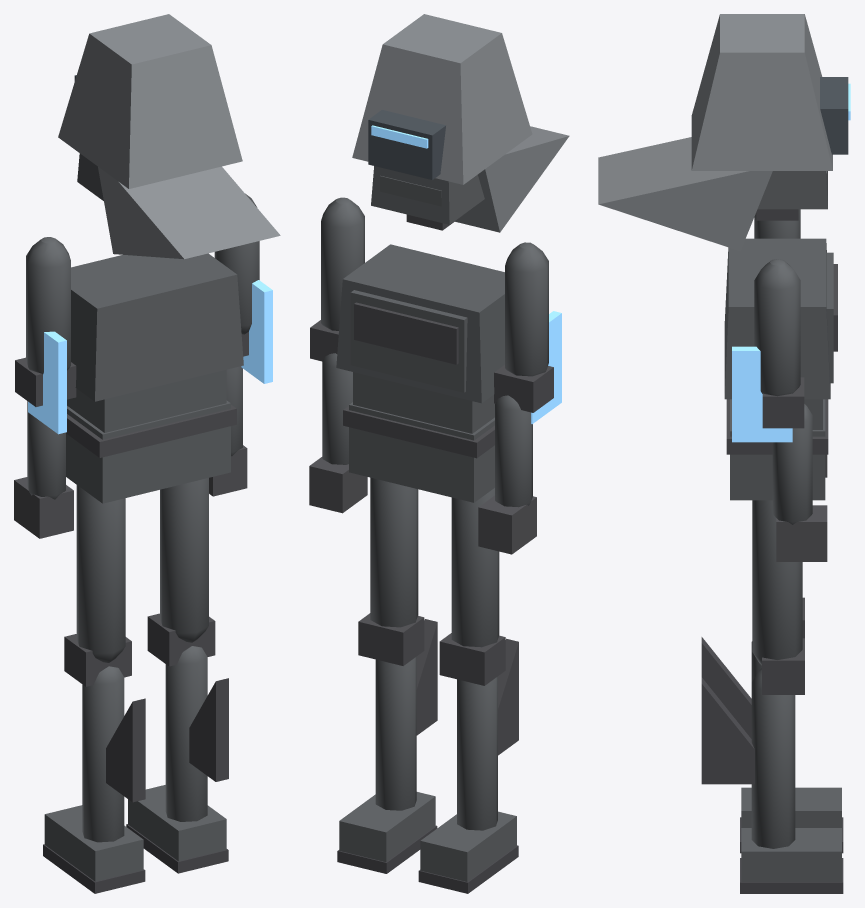
Rendered from char_phantom.glb.
3 views of the same model, side by side, from view 1: azimuth 30°, elevation 25°; view 2: azimuth 150°, elevation 25°; view 3: azimuth 270°, elevation 25° (orthographic). The views are drawn at different scales.
Visible parts, largest first — view 1: char_phantom; view 2: char_phantom; view 3: char_phantom.
Boxes of the visible parts, bbox=[...] form: char_phantom: bbox=[14, 14, 280, 893]; char_phantom: bbox=[309, 14, 569, 893]; char_phantom: bbox=[598, 14, 850, 893].
Size of what is drawn, in the model's own units: 0.522 by 1.81 by 0.5002.
